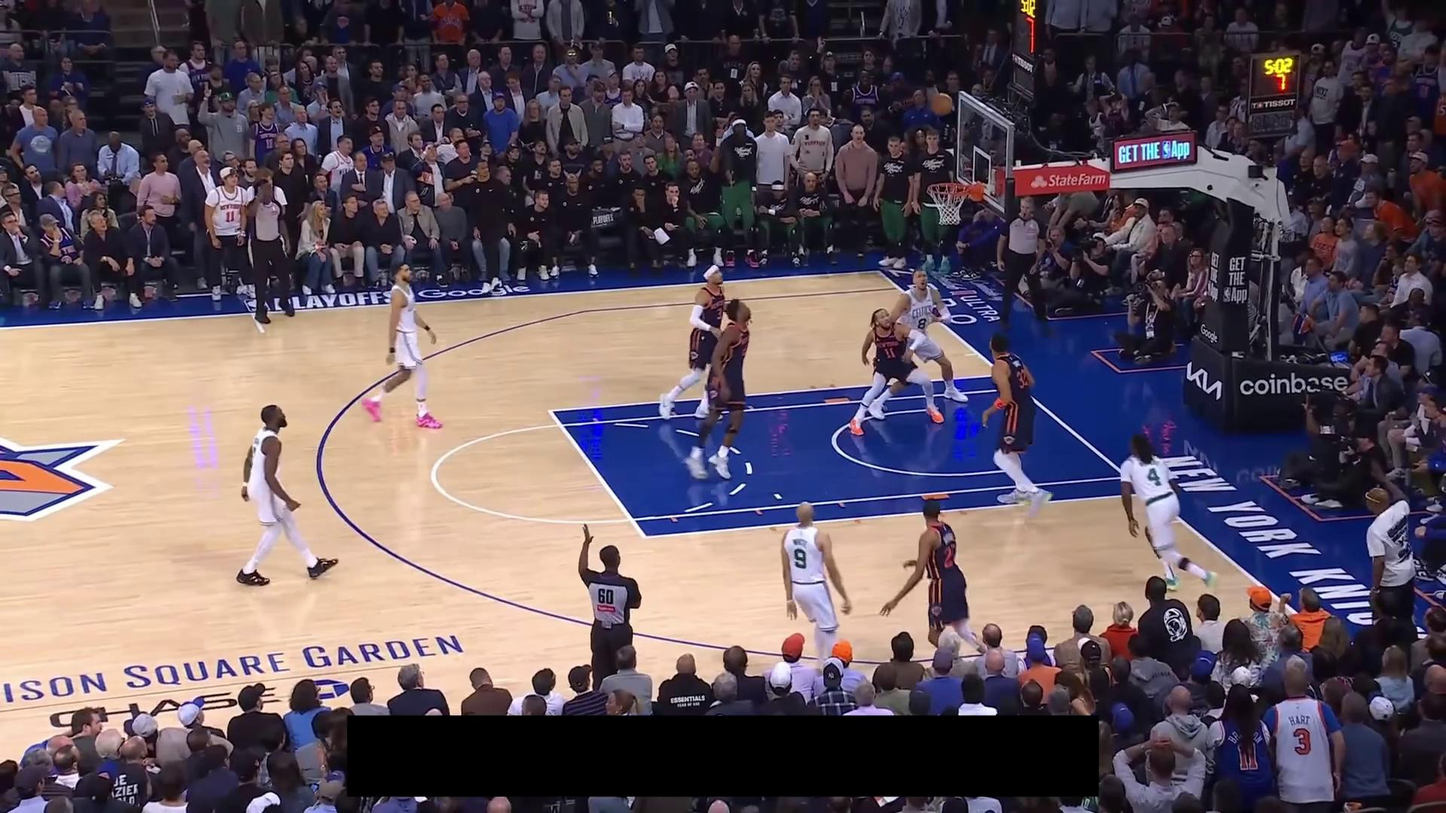ball: (930, 93, 953, 117)
number: (1147, 467, 1162, 486), (794, 548, 807, 569), (1017, 368, 1030, 388), (883, 346, 896, 359), (917, 317, 928, 330), (716, 306, 724, 321)
player: (235, 403, 340, 588), (877, 496, 990, 660), (1119, 428, 1222, 596), (868, 266, 970, 419), (360, 260, 445, 430), (980, 331, 1056, 521), (777, 498, 856, 671), (683, 297, 755, 483), (847, 306, 944, 439), (657, 260, 734, 425)
referee: (577, 522, 642, 692), (241, 162, 296, 324), (996, 194, 1053, 337)
rim: (926, 181, 970, 196)
